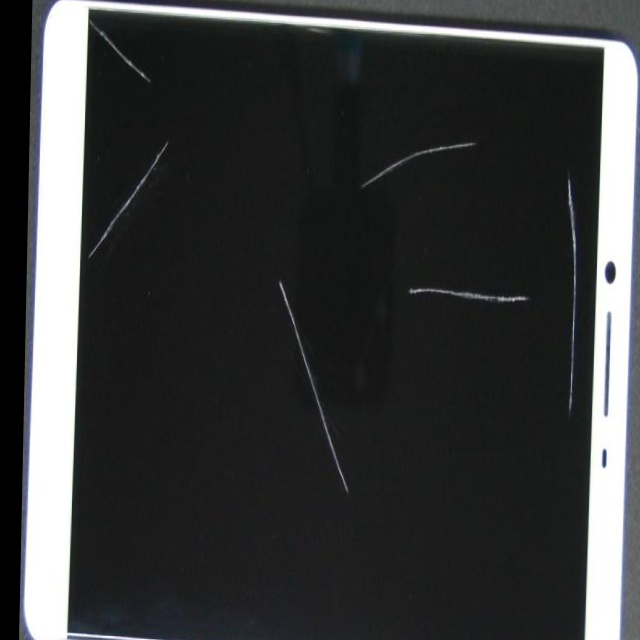scratch: (282, 0, 640, 430)
